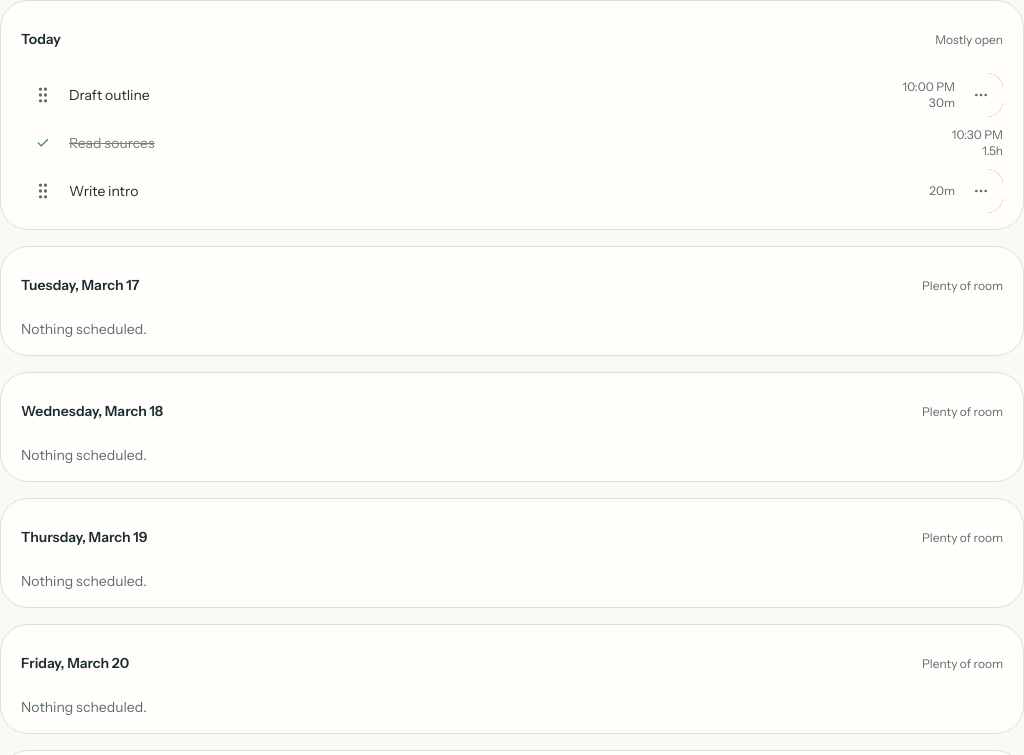
Test case: WeekLookAhead › reordering a day (daily-planning-and-completion-v2-proposal.md item 2) › refuses a reorder that would run past midnight, and saves nothing
Click the button named "More actions for Write intro".
click(981, 191)  # box x1=959 y1=169 x2=1003 y2=213
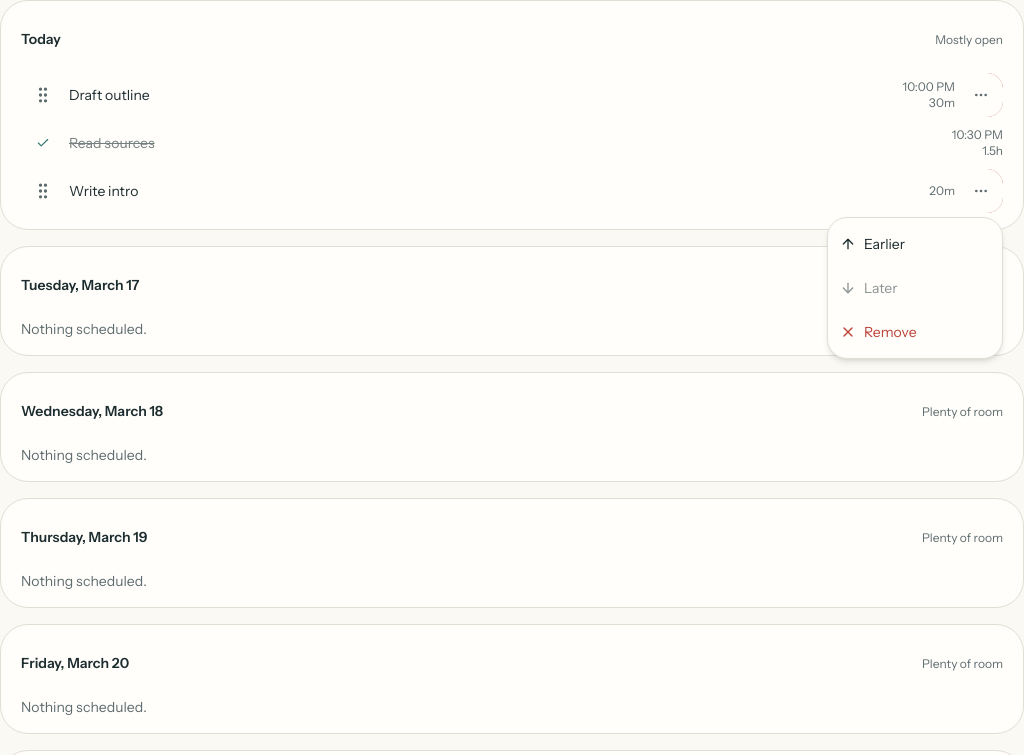
Click the menu item "Earlier".
click(872, 244)  # box x1=840 y1=235 x2=905 y2=253
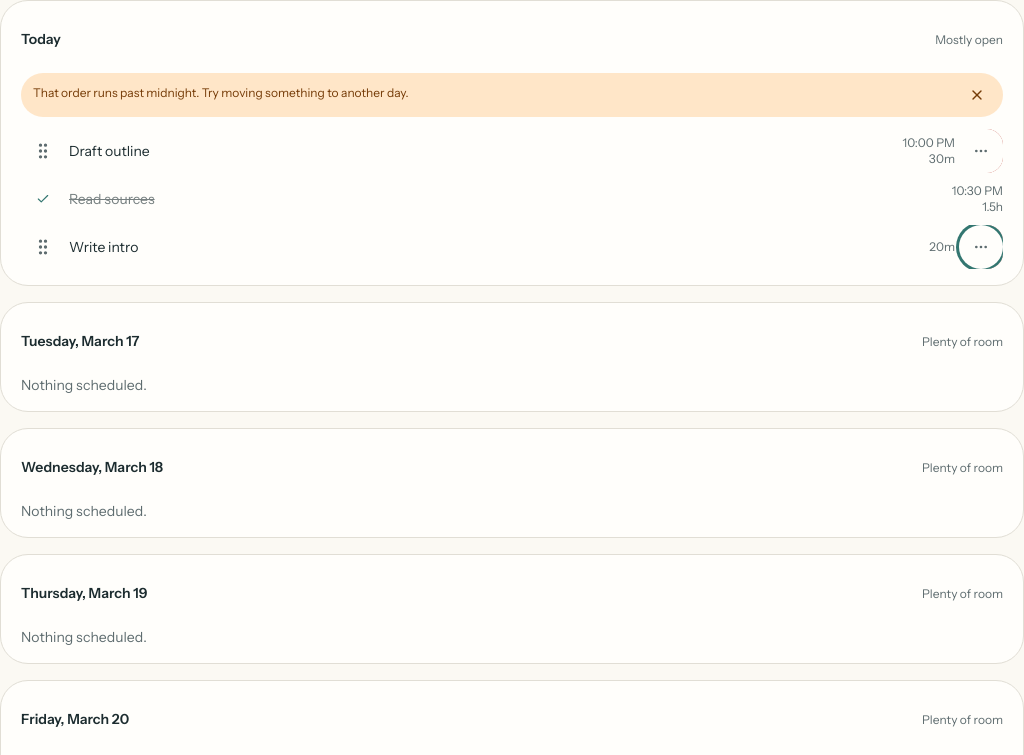
Check: the message shows "runs past midnight", box x1=33 y1=85 x2=409 y2=100
